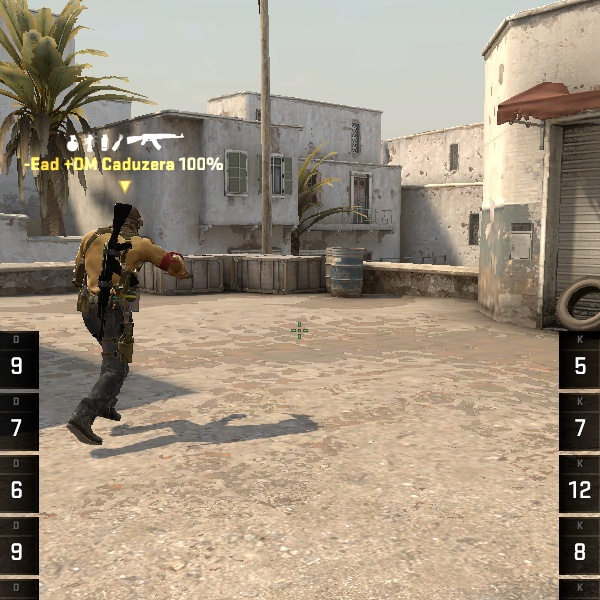t_body: (54, 196, 189, 436)
t_head: (104, 199, 150, 246)
